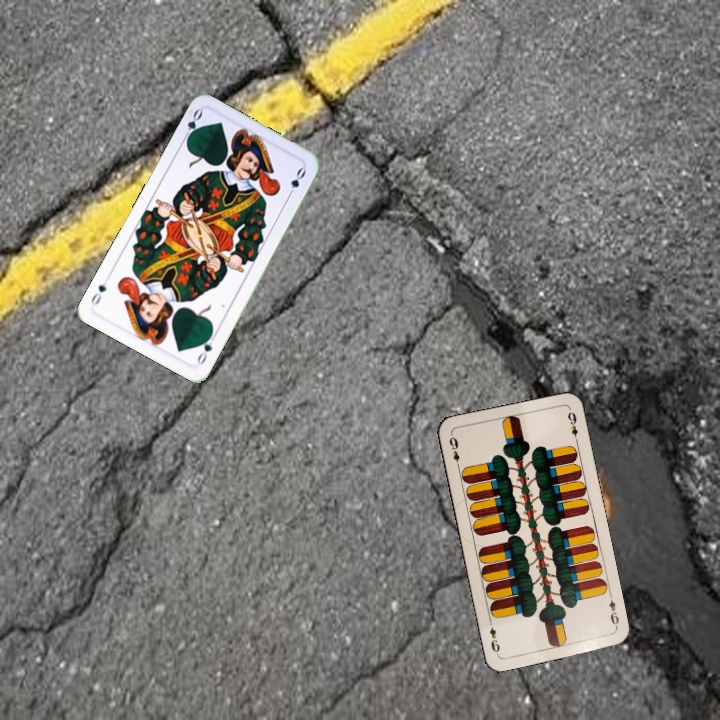E9: (445, 431, 462, 471), (605, 590, 621, 631)
GO: (178, 105, 205, 145), (193, 329, 219, 367)
